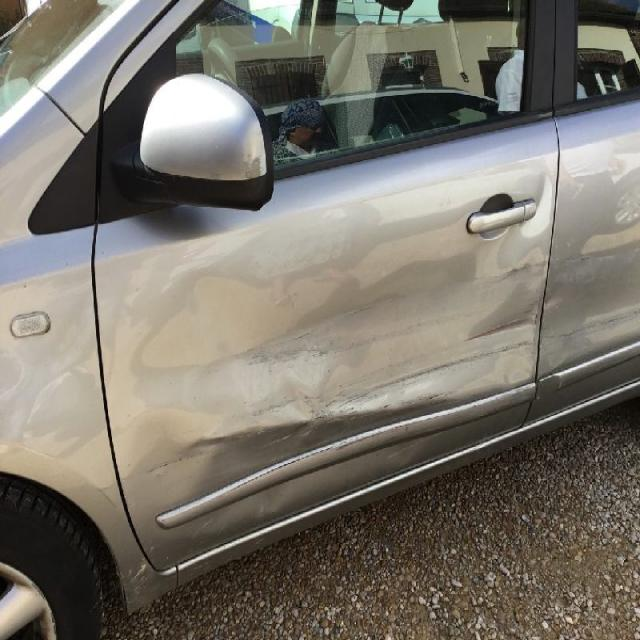porte-avant: (88, 1, 561, 572)
